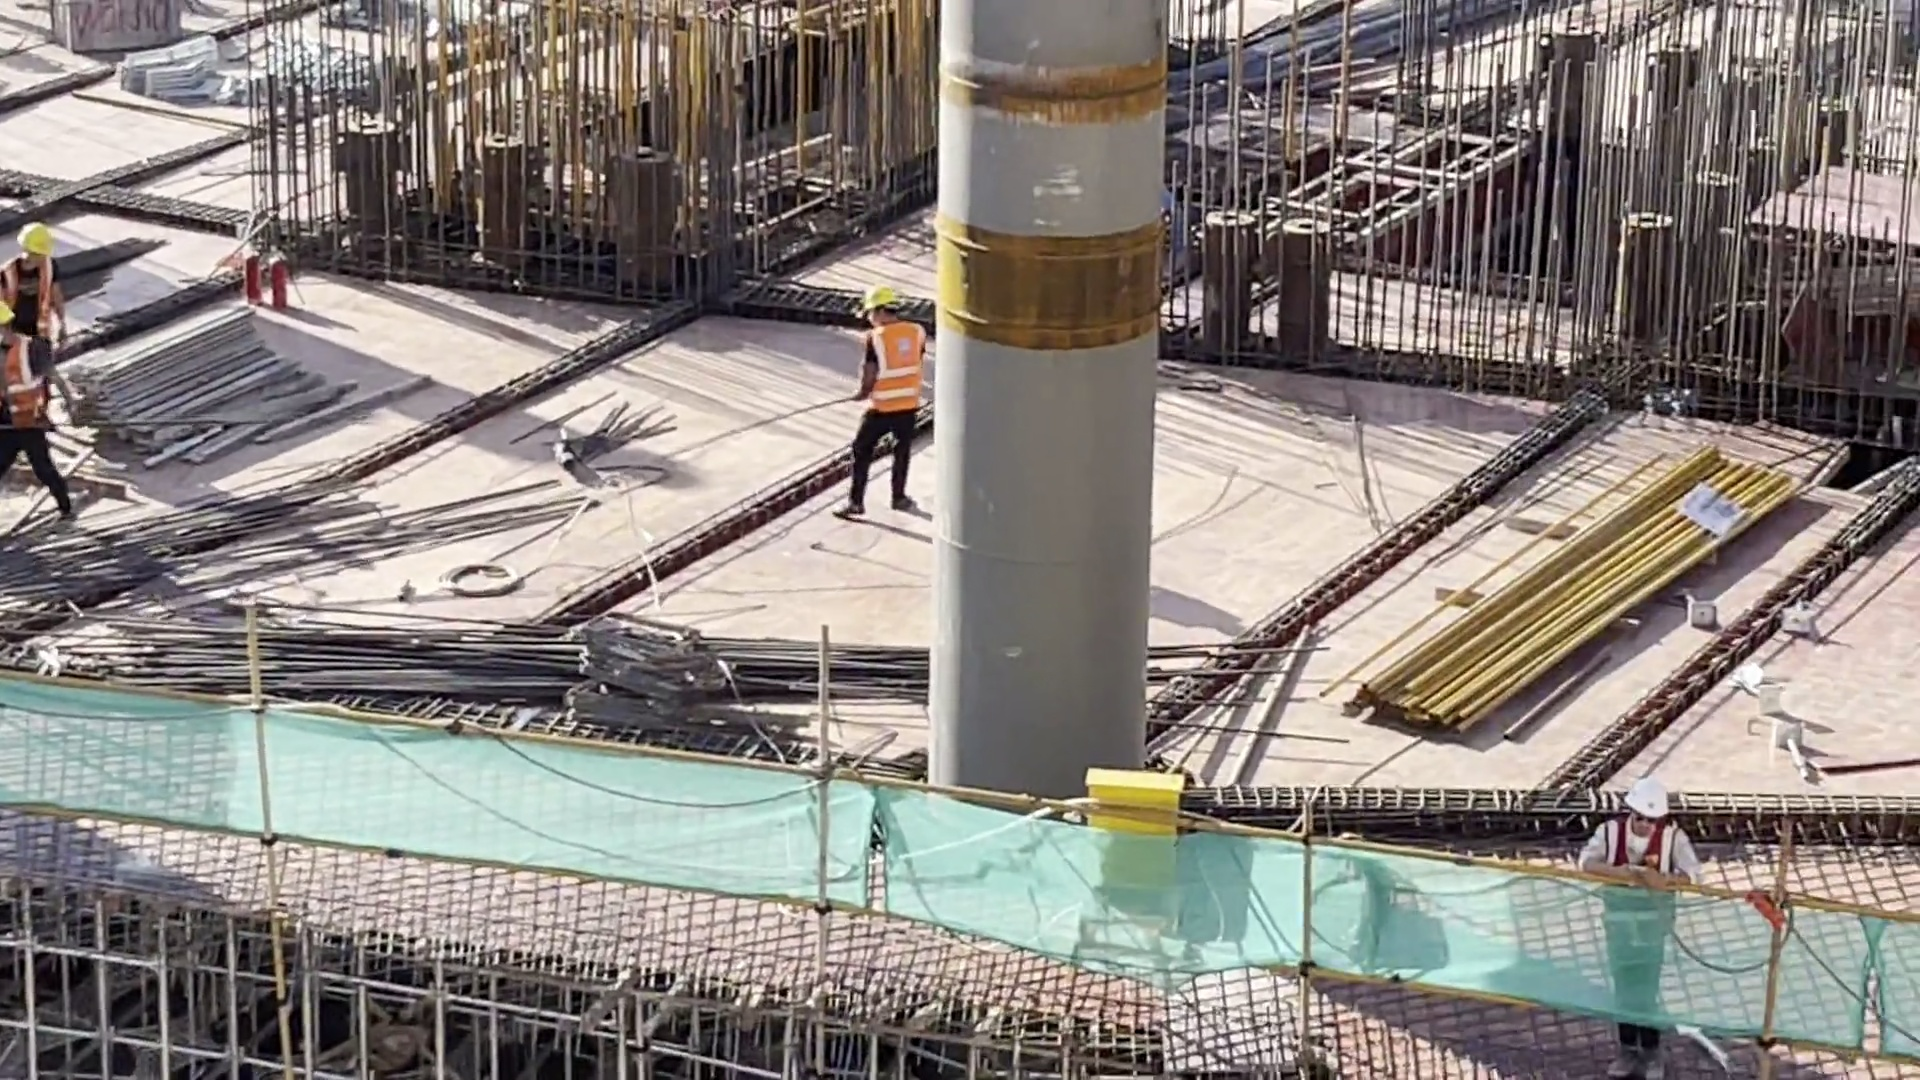ebox: (1091, 761, 1196, 906)
helmet: (865, 287, 902, 318)
person: (1584, 764, 1696, 1054), (837, 276, 932, 535), (1, 315, 70, 513), (1, 217, 71, 374)
vest: (865, 326, 927, 419), (2, 271, 49, 327)
